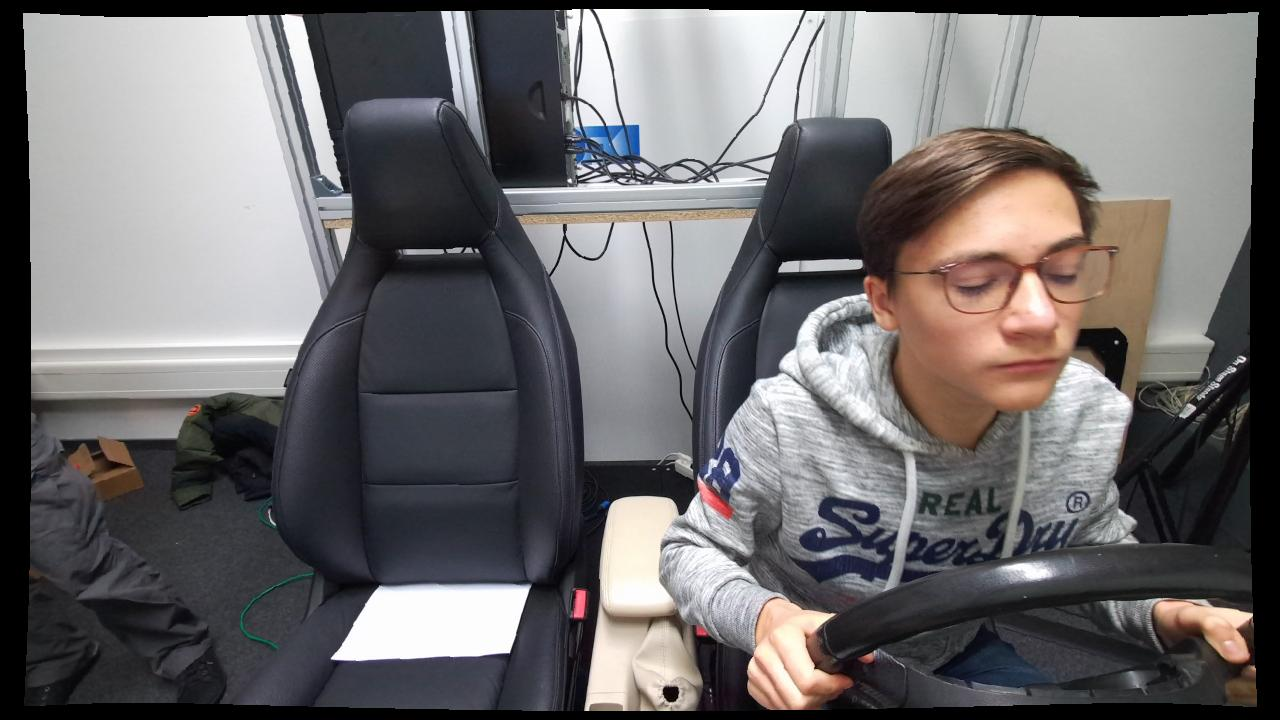Distracted: (655, 124, 1140, 711)
